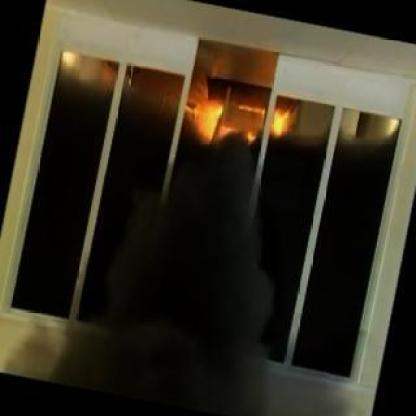Fire: (185, 79, 296, 159)
Smoke: (85, 179, 283, 415)
